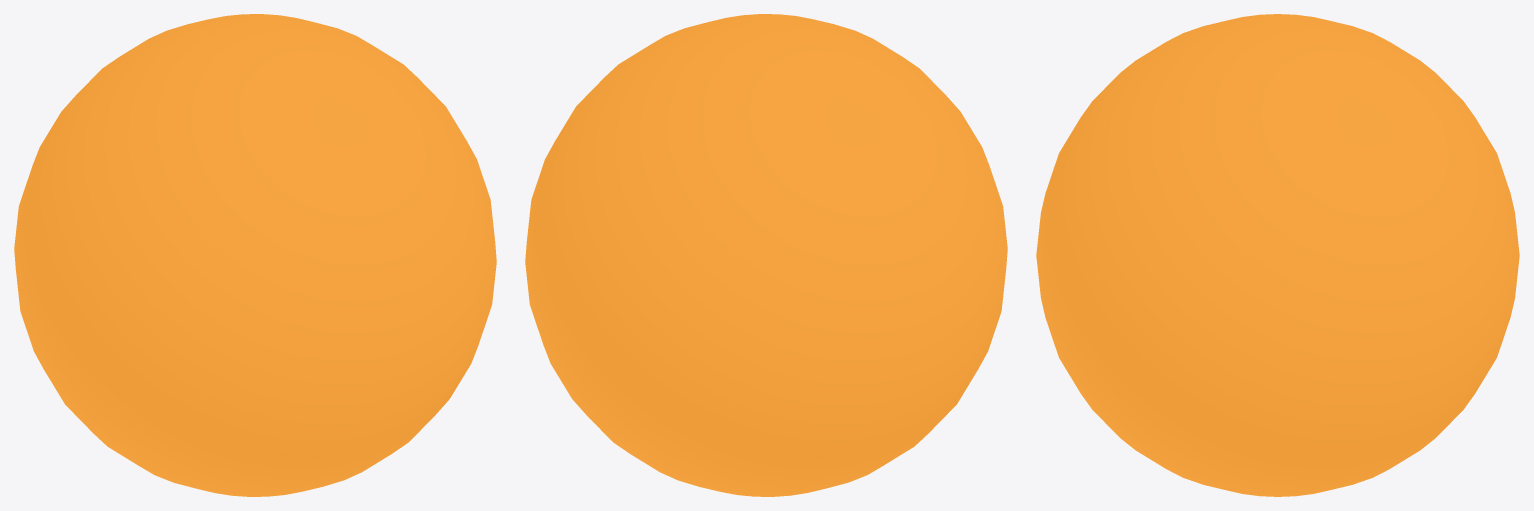
Rendered from sun.glb.
3 renders of one model, left to right at view 1: azimuth 30°, elevation 25°; view 2: azimuth 150°, elevation 25°; view 3: azimuth 270°, elevation 25°, orthographic.
Visible parts, largest first — view 1: Sphere.001; view 2: Sphere.001; view 3: Sphere.001.
Part boxes in pixels (bbox=[...]): Sphere.001: bbox=[14, 14, 496, 496]; Sphere.001: bbox=[525, 14, 1007, 496]; Sphere.001: bbox=[1036, 14, 1519, 496].
Size of the model in its own units: 0.8114 by 0.8114 by 0.8114.
